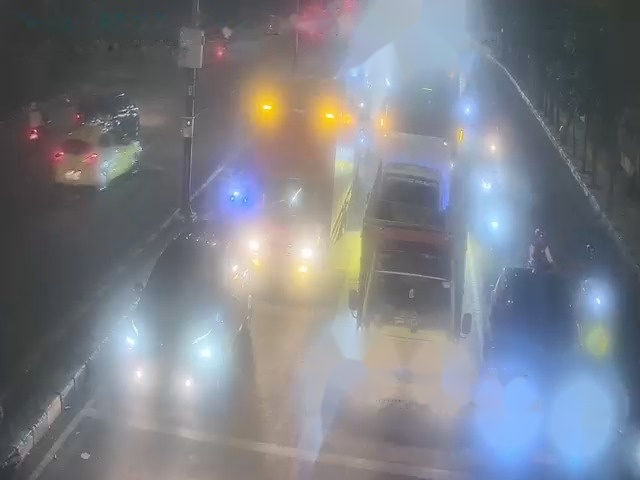Mobil: (123, 217, 249, 392), (486, 271, 578, 428), (55, 120, 143, 192), (69, 77, 142, 128)
Motor: (583, 276, 607, 321), (487, 208, 506, 248), (483, 166, 496, 202), (489, 130, 501, 167), (27, 119, 43, 143)
Truk: (355, 206, 466, 440), (248, 88, 357, 267), (381, 21, 469, 163), (356, 126, 456, 241)
